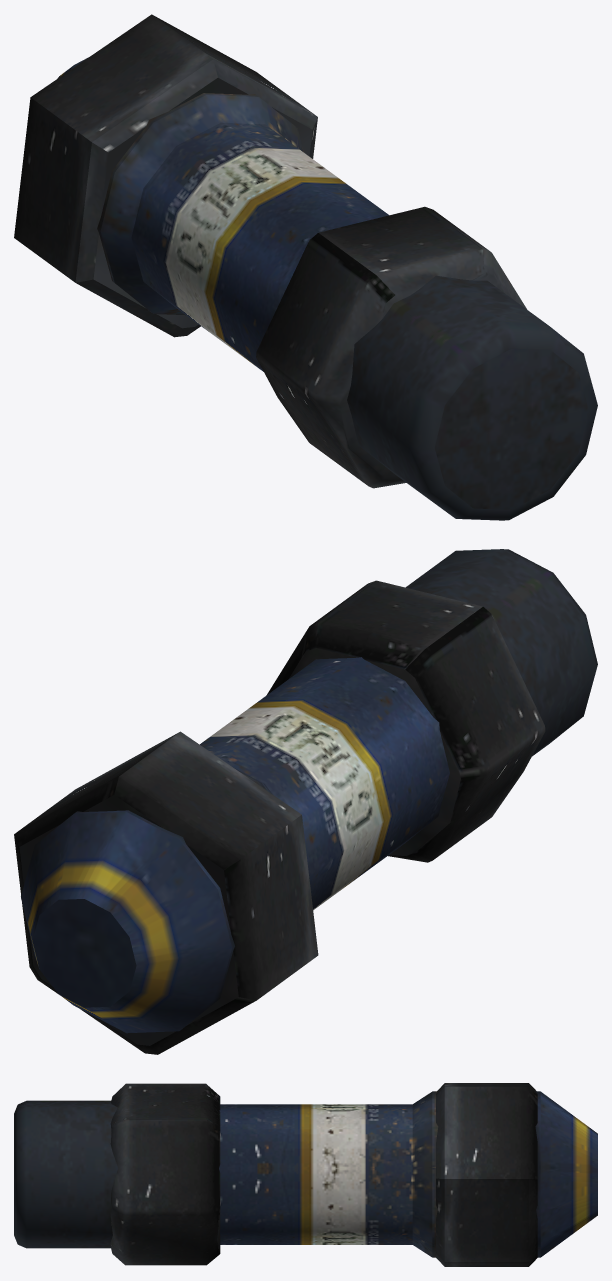
File: t6_wpn_grenade_emp_world_LOD0.obj
3 views of the same model, one above another, from view 1: azimuth 30°, elevation 25°; view 2: azimuth 150°, elevation 25°; view 3: azimuth 270°, elevation 25° (orthographic). The views are drawn at different scales.
Parts seen in each view (by area): view 1: mtl_t6_wpn_grenade_emp, mtl_t6_wpn_grenade_emp_glass_world; view 2: mtl_t6_wpn_grenade_emp, mtl_t6_wpn_grenade_emp_glass_world; view 3: mtl_t6_wpn_grenade_emp, mtl_t6_wpn_grenade_emp_glass_world.
Boxes of the visible parts, left/top/right/bottom form: mtl_t6_wpn_grenade_emp: left=14, top=14, right=526, bottom=488; mtl_t6_wpn_grenade_emp_glass_world: left=347, top=275, right=597, bottom=520; mtl_t6_wpn_grenade_emp: left=14, top=580, right=545, bottom=1054; mtl_t6_wpn_grenade_emp_glass_world: left=405, top=549, right=597, bottom=756; mtl_t6_wpn_grenade_emp: left=110, top=1083, right=597, bottom=1266; mtl_t6_wpn_grenade_emp_glass_world: left=14, top=1100, right=117, bottom=1248.
Size of the model in its own units: 5.93 by 6.31 by 18.05.
